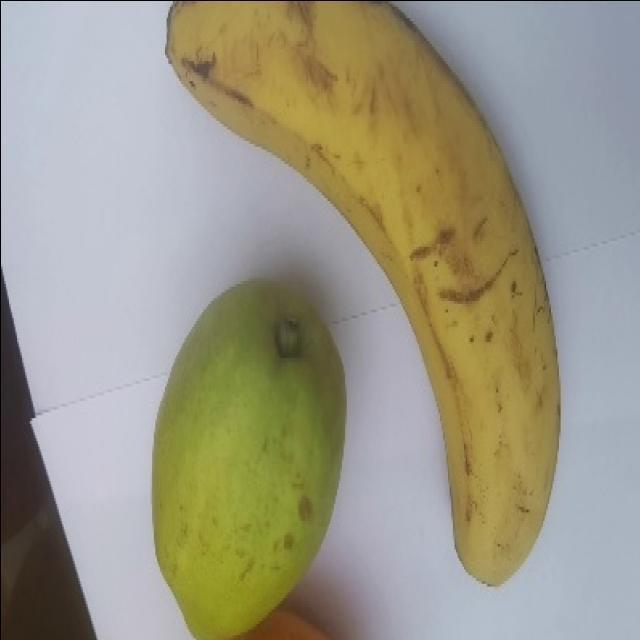Banana: (166, 0, 562, 592)
Orange: (180, 606, 337, 640)
